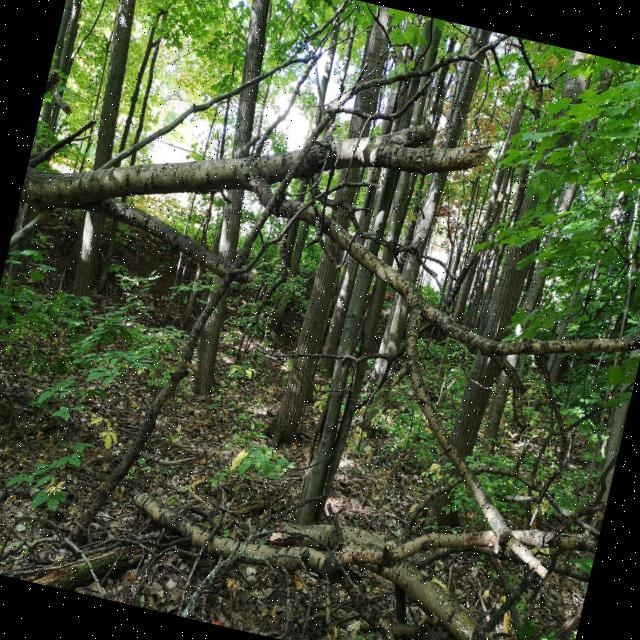fallen_object: (0, 29, 505, 412), (92, 374, 607, 640)
